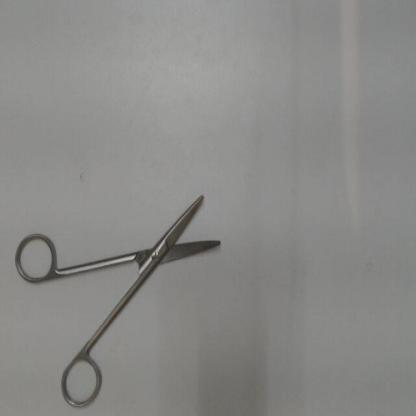Curved Mayo Scissors: (9, 181, 231, 413)
